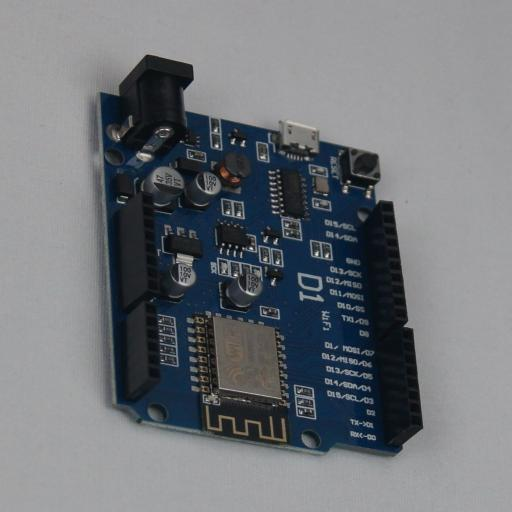Arduino Uno WiFi Shield: (92, 54, 423, 456)
